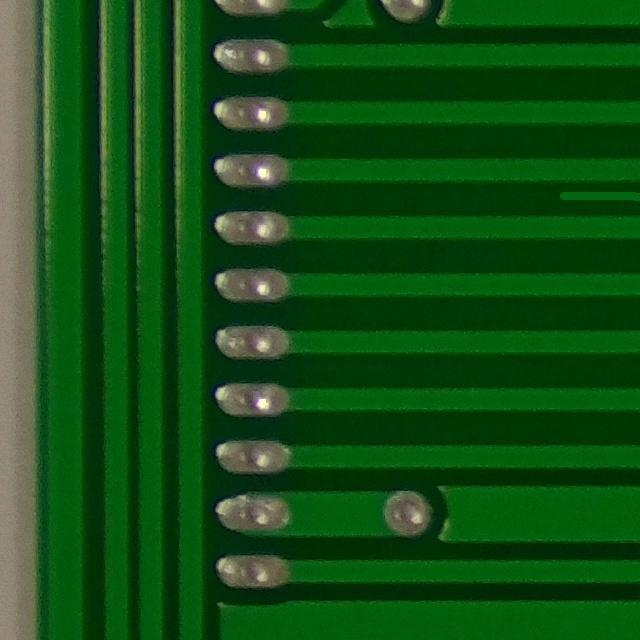spurious_copper: (542, 166, 640, 217)
